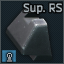PL-15 extended rear sight: (0, 0, 64, 64)
